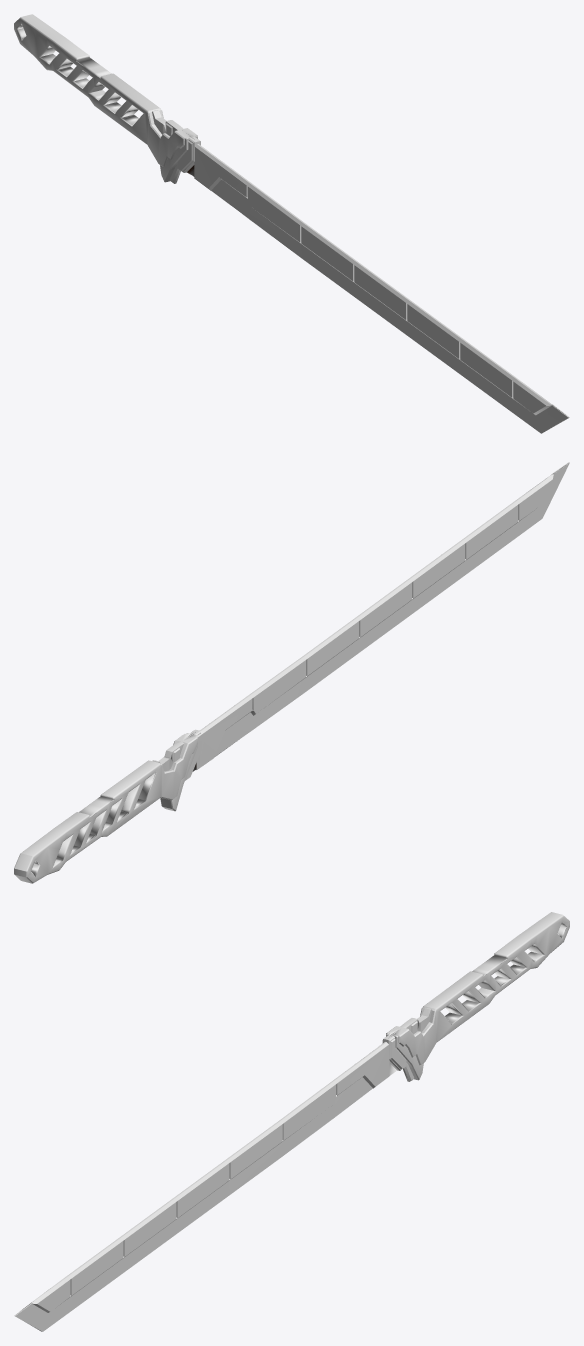
Rendered from katana.fbx.
3 views of the same model, one above another, from view 1: azimuth 30°, elevation 25°; view 2: azimuth 150°, elevation 25°; view 3: azimuth 330°, elevation 25° (orthographic).
Visible parts, largest first — view 1: Plane.002; view 2: Plane.002; view 3: Plane.002.
Boxes of the visible parts, x1,y1,x2,y2 form: Plane.002: [14, 14, 569, 433]; Plane.002: [14, 462, 569, 883]; Plane.002: [14, 912, 569, 1331].
Size of the model in its own units: 7.54 by 30.53 by 494.
